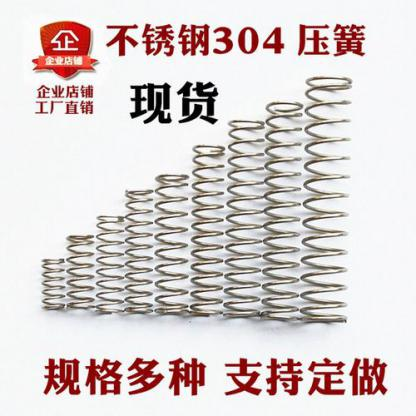FOD: (299, 74, 355, 325), (259, 98, 305, 325), (224, 114, 265, 319), (189, 142, 225, 321), (154, 171, 190, 317), (125, 185, 157, 316), (96, 210, 126, 318), (66, 232, 96, 312), (38, 255, 66, 315)
